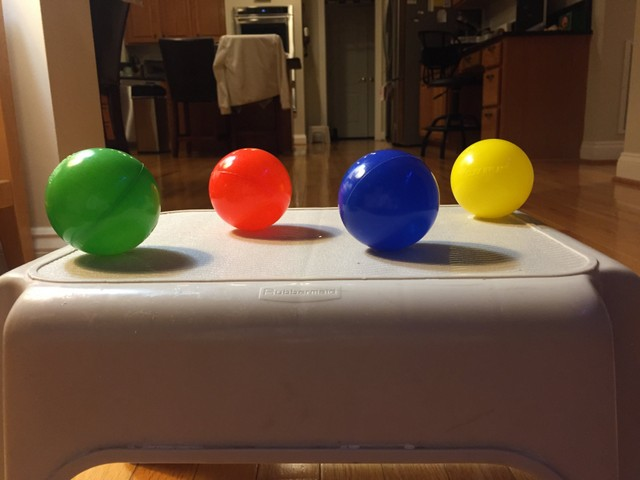Ball: (339, 151, 439, 251)
